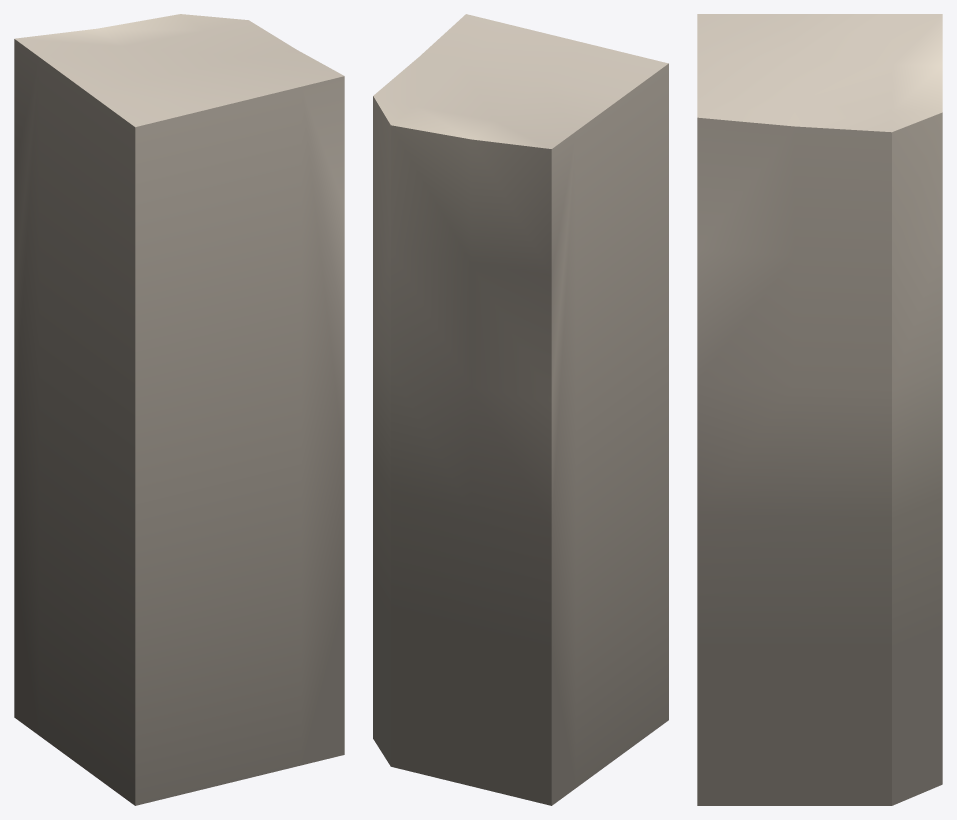
File: SM_VKI_Rock_Cave_COOO_WallSENW.fbx
3 renders of one model, left to right at view 1: azimuth 30°, elevation 25°; view 2: azimuth 150°, elevation 25°; view 3: azimuth 270°, elevation 25°, orthographic. The views are drawn at different scales.
Visible parts, largest first — view 1: SM_VKI_Rock_Cave_COOO_WallSENW.001; view 2: SM_VKI_Rock_Cave_COOO_WallSENW.001; view 3: SM_VKI_Rock_Cave_COOO_WallSENW.001.
Boxes of the visible parts, x1=… form: SM_VKI_Rock_Cave_COOO_WallSENW.001: x1=14, y1=14, x2=344, y2=805; SM_VKI_Rock_Cave_COOO_WallSENW.001: x1=373, y1=14, x2=668, y2=805; SM_VKI_Rock_Cave_COOO_WallSENW.001: x1=697, y1=14, x2=942, y2=805.
Size of the model in its own units: 0.42 by 1.3 by 0.42.
